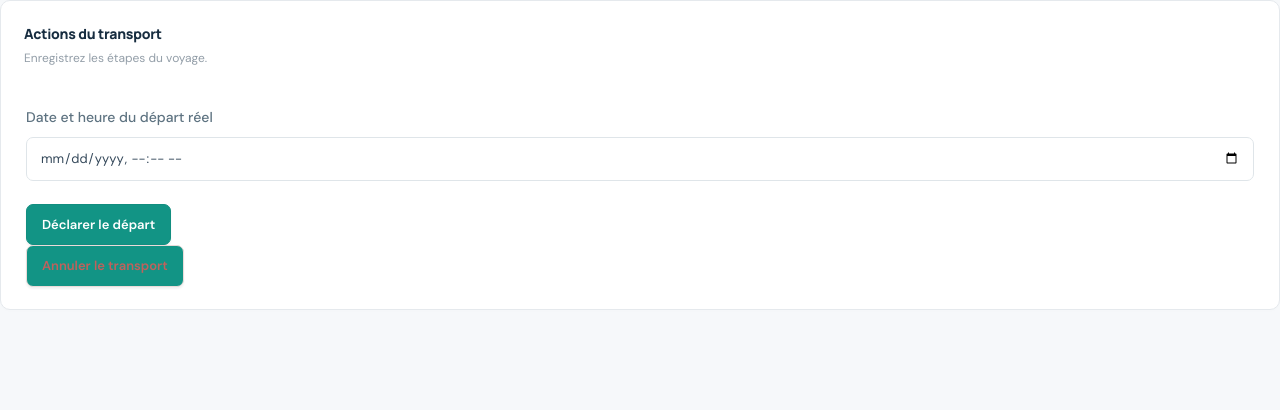
refuse un départ sans date valide avant de contacter le service
The image size is (1280, 410).
Click the button "Déclarer le départ" at point(99, 224), box 26,204 -> 171,245
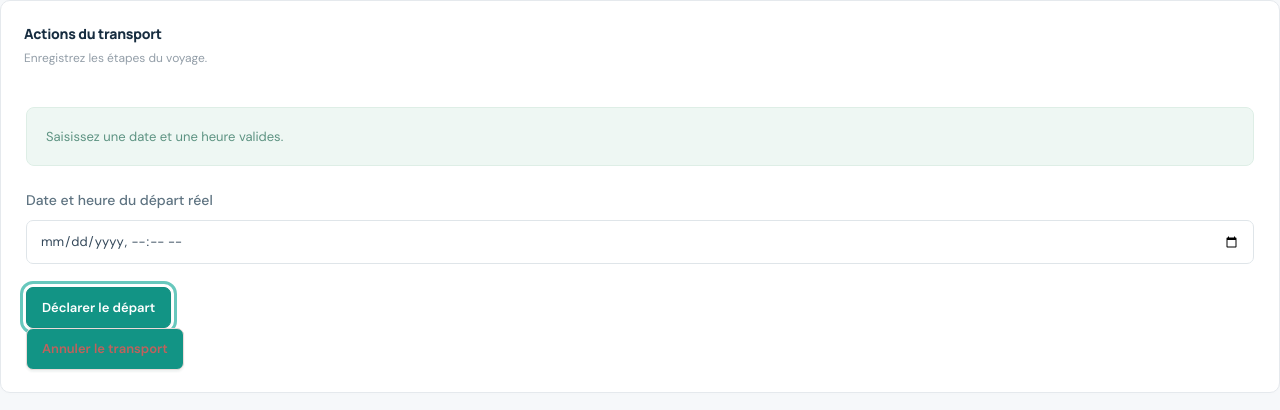
Check: the message shows "Saisissez une date et une heure valides", box 46,128 -> 283,145
